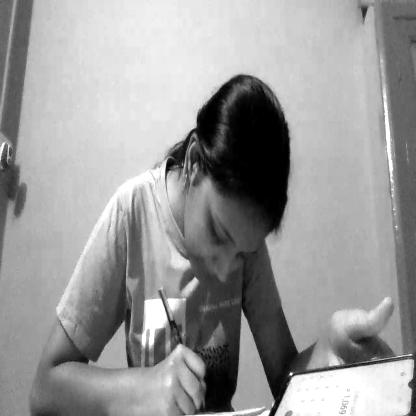Distracted: (171, 77, 292, 307)
